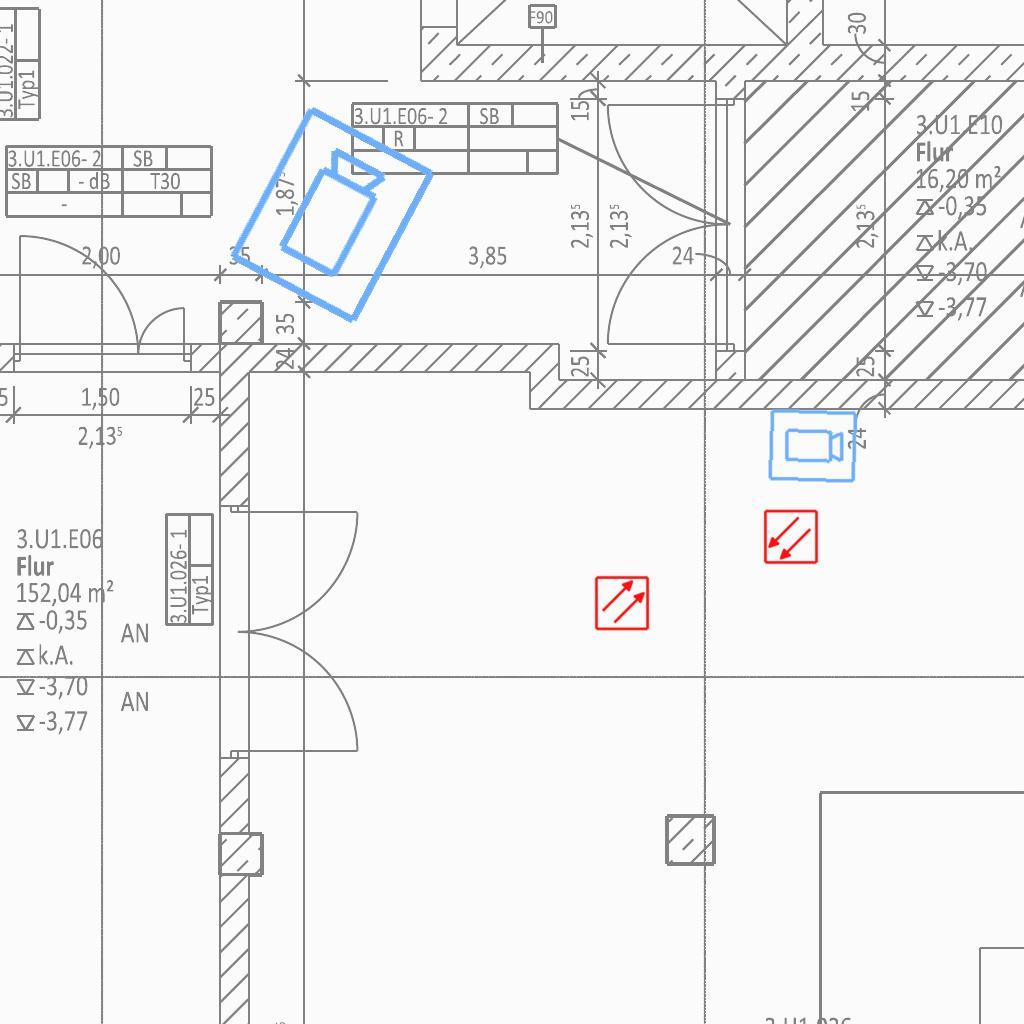KFO_Kamera_mit_Festobjektiv: (222, 99, 444, 333), (765, 406, 860, 487)
RMO_Rauchmelder_optischer: (594, 575, 650, 631), (763, 509, 819, 565)
